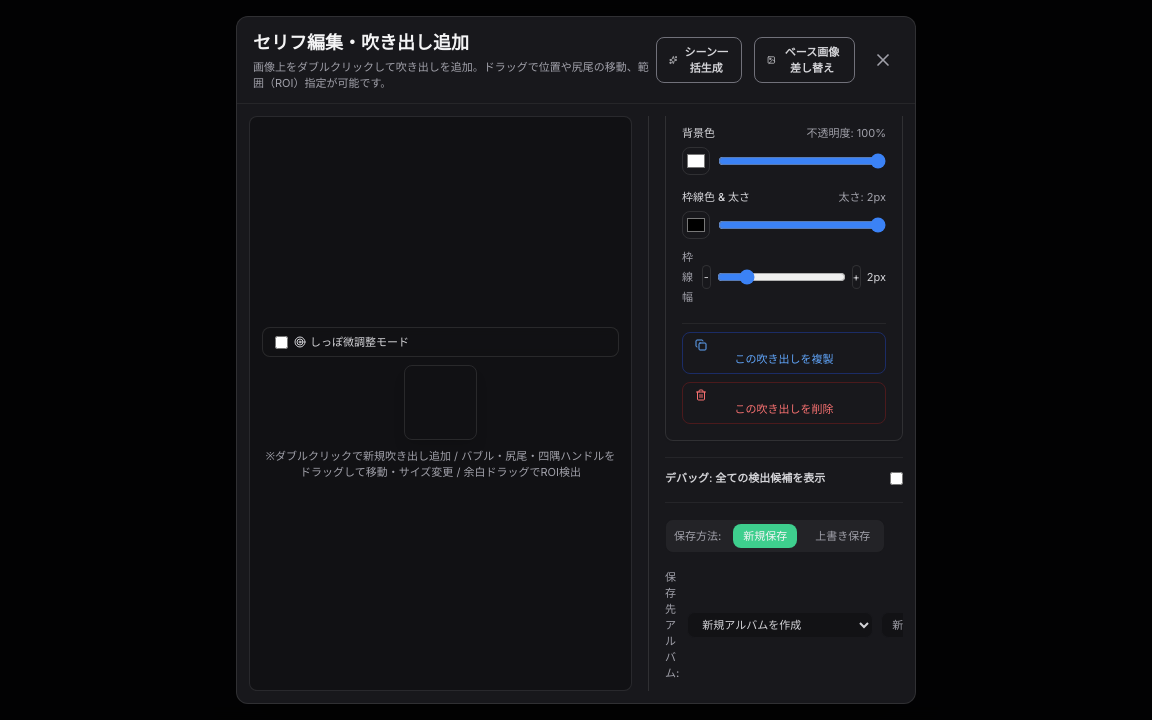
Test: SpeechBubbleEditorModal › Red Teaming (boundary & error cases) › Red-3: disables save button when bubbles count is zero
(page scrolled)
Click the button "この吹き出しを削除".
click(784, 403)  # box left=682, top=382, right=886, bottom=424
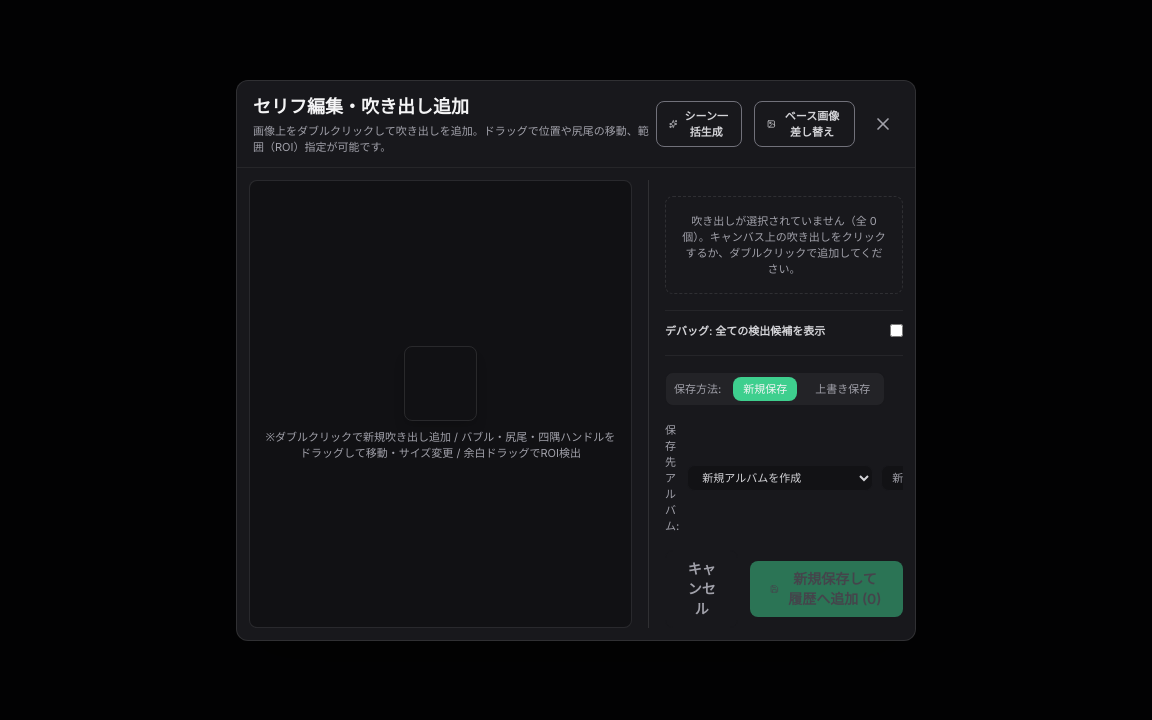
Check: the button with test id "speech-bubble-save-btn" is disabled, box left=750, top=560, right=903, bottom=616
